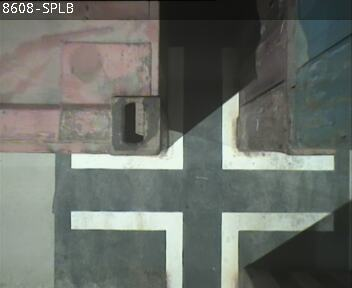groundmarker_1: (71, 47, 334, 170), (71, 211, 334, 287)
